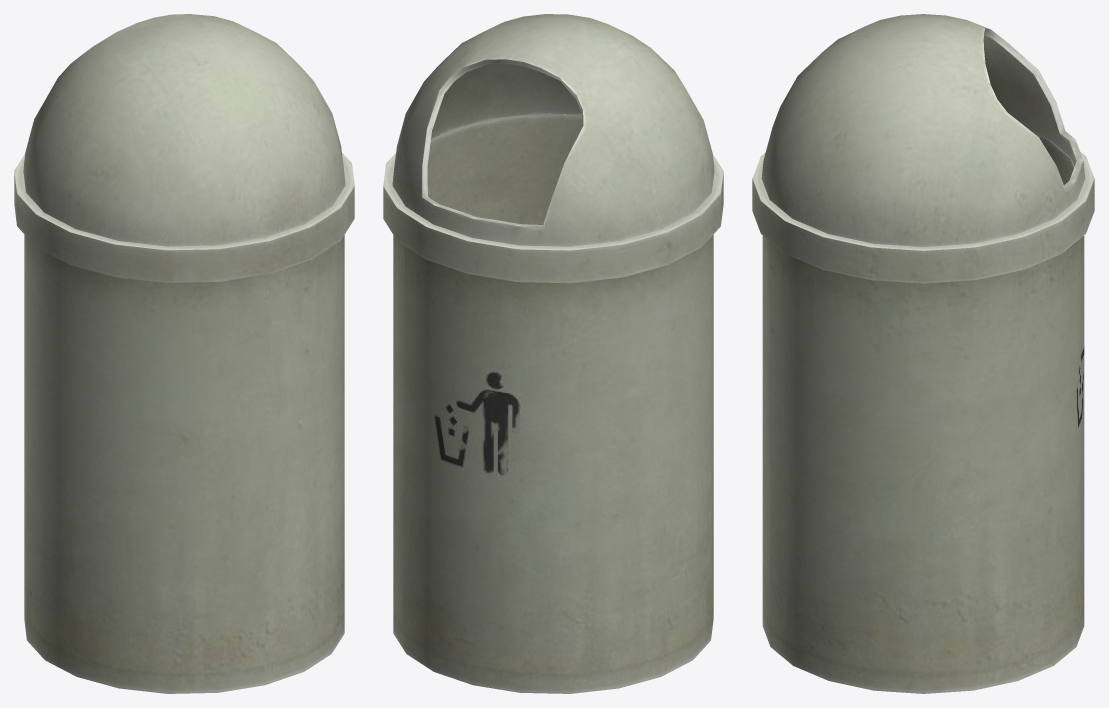
The model's file is Trash_Bin_3.glb.
3 renders of one model, left to right at view 1: azimuth 30°, elevation 25°; view 2: azimuth 150°, elevation 25°; view 3: azimuth 270°, elevation 25°, orthographic.
Parts seen in each view (by area): view 1: Trash_Bin_3__LOD3; view 2: Trash_Bin_3__LOD3; view 3: Trash_Bin_3__LOD3.
Boxes of the visible parts, x1,y1,x2,y2 form: Trash_Bin_3__LOD3: (14,14,354,693); Trash_Bin_3__LOD3: (383,14,723,693); Trash_Bin_3__LOD3: (752,14,1094,693).
Bounding box in the file's own units: 0.5576 × 1.07 × 0.5576.
1 material, 1 textured.
